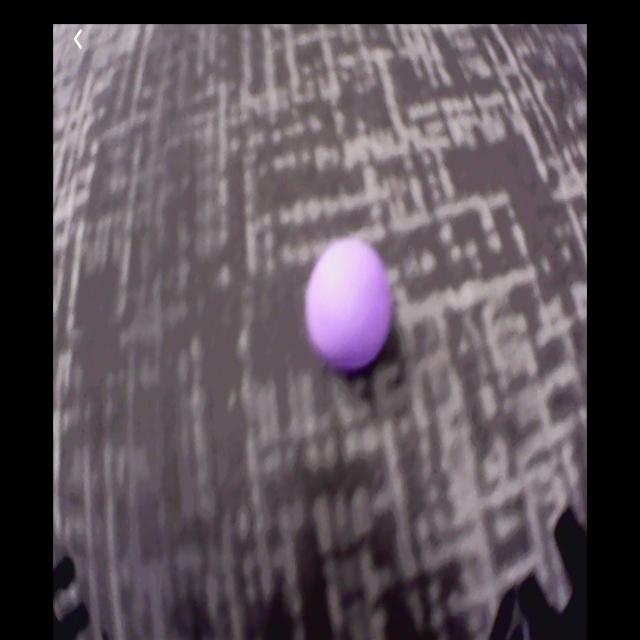ball: (306, 236, 393, 370)
